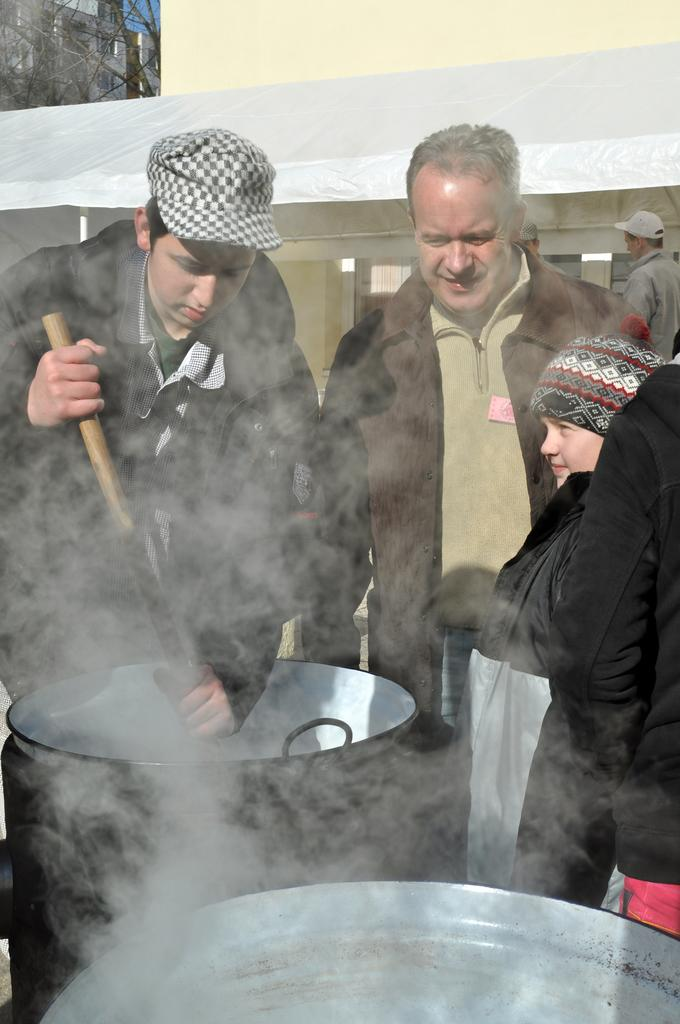Hat: (146, 123, 282, 247), (616, 212, 664, 238), (520, 214, 538, 236)
